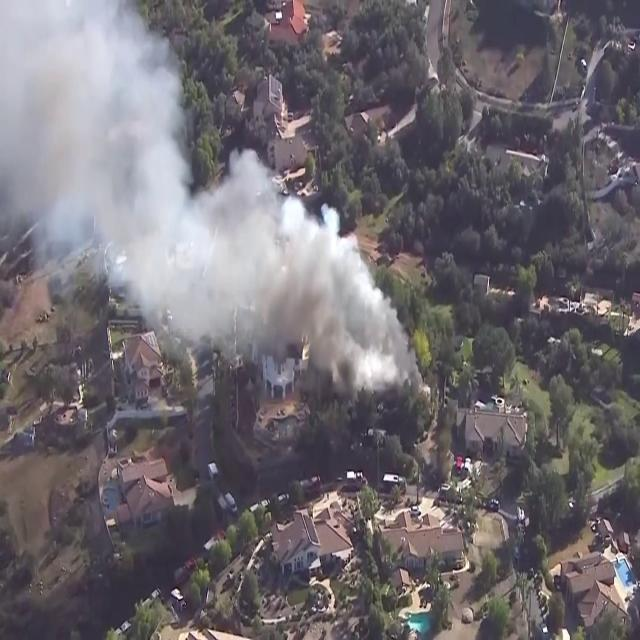Smoke: (0, 2, 414, 374)
